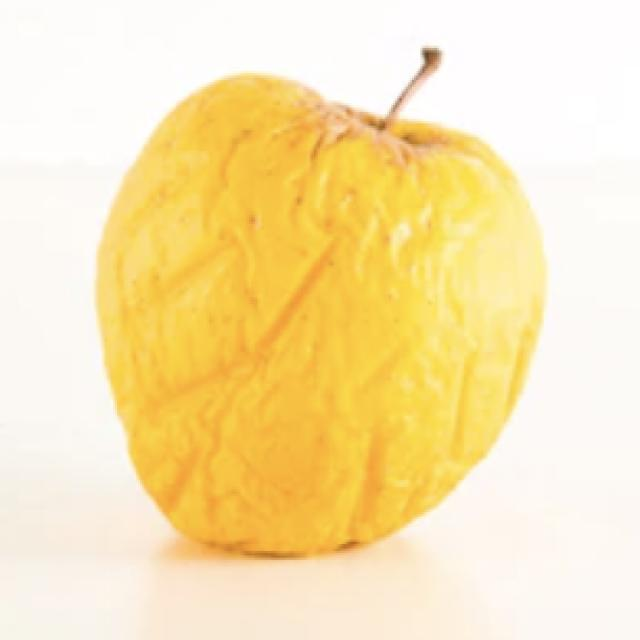Rotten: (112, 85, 573, 575)
